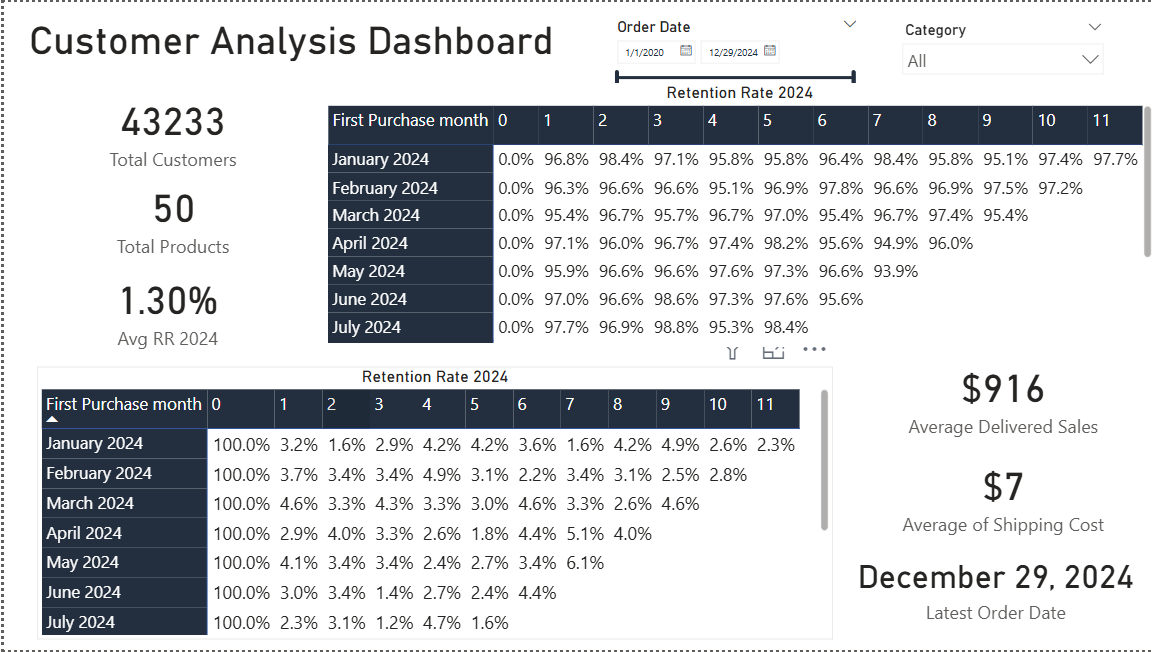

What the dashboard file says about the page in this screenshot:
{"tool":"powerbi","page":{"name":"Page 4","canvas":[1280,720],"ordinal":3},"visuals":[{"type":"pivotTable","title":"Retention Rate 2024","fields":{"Values":["Amazon (1).Customer Retention %"],"Columns":["Month.Value"],"Rows":["Amazon (1).First Purchase month"]},"box":[36.6,405.6,884.5,302.8],"z":0},{"type":"card","fields":{"Values":["Amazon (1).Avg RR"]},"box":[32.4,308.5,298.6,104.2],"z":1000},{"type":"pivotTable","title":"Retention Rate 2024","fields":{"Columns":["Month.Value"],"Rows":["Amazon (1).First Purchase month"],"Values":["Amazon (1).Churn Rate"]},"box":[355,90,925,311.7],"z":2000},{"type":"textbox","box":[22.5,11.3,616.9,59.2],"z":3000},{"type":"slicer","fields":{"Values":["Amazon (1).Order Date"]},"box":[669,11.3,291.5,78.9],"z":4000},{"type":"slicer","fields":{"Values":["Amazon (1).Category"]},"box":[988.7,15.5,243.7,74.6],"z":5000},{"type":"card","fields":{"Values":["New Measures.Total Customers"]},"box":[43.7,90.1,287.3,142.3],"z":6000},{"type":"card","fields":{"Values":["New Measures.Total Products"]},"box":[43.7,209.9,287.3,98.6],"z":7000},{"type":"card","fields":{"Values":["Amazon (1).Average Delivered Sales"]},"box":[962,401.4,300,108.5],"z":8000},{"type":"card","fields":{"Values":["Avg(Amazon (1).Shipping Cost)"]},"box":[960.6,504.2,300,108.5],"z":9000},{"type":"card","fields":{"Values":["Max(Amazon (1).Order Date)"]},"box":[923.9,612.7,356.3,97.2],"z":10000}]}

Visuals, with their boxes in screenshot pixels (x1, y1, x2, y2), scaled from the page's 1280x720 canvas onto the 1153x652 screenshot:
"Retention Rate 2024" pivotTable: BBox(33, 367, 830, 641)
card - Amazon (1).Avg RR: BBox(29, 279, 298, 374)
"Retention Rate 2024" pivotTable: BBox(320, 82, 1152, 364)
textbox: BBox(20, 10, 576, 64)
slicer - Amazon (1).Order Date: BBox(603, 10, 865, 82)
slicer - Amazon (1).Category: BBox(891, 14, 1110, 82)
card - New Measures.Total Customers: BBox(39, 82, 298, 210)
card - New Measures.Total Products: BBox(39, 190, 298, 279)
card - Amazon (1).Average Delivered Sales: BBox(867, 363, 1137, 462)
card - Avg(Amazon (1).Shipping Cost): BBox(865, 457, 1136, 555)
card - Max(Amazon (1).Order Date): BBox(832, 555, 1152, 643)
